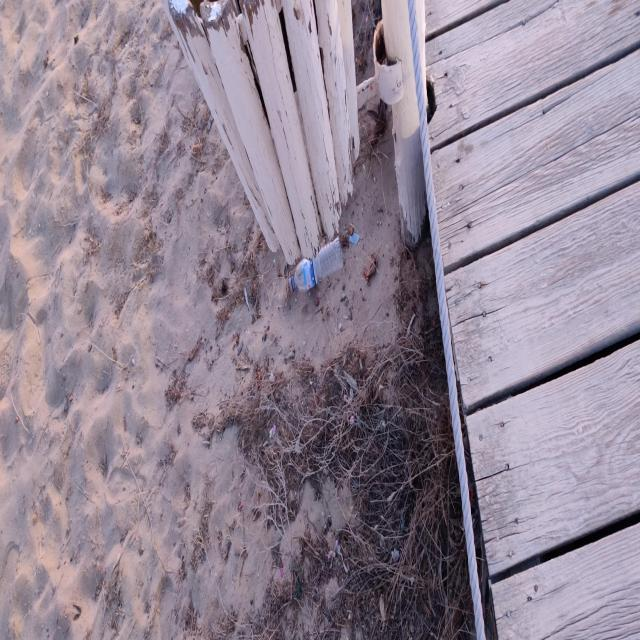Cigarette: (355, 57, 362, 66), (192, 144, 200, 149)
Clear plastic bottle: (289, 236, 344, 293)
Unlabeled litter: (349, 233, 360, 245)
